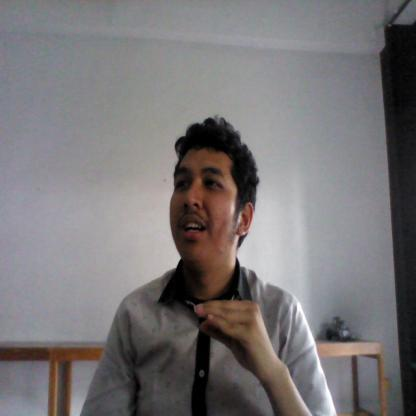Pagi: (185, 288, 280, 380)
